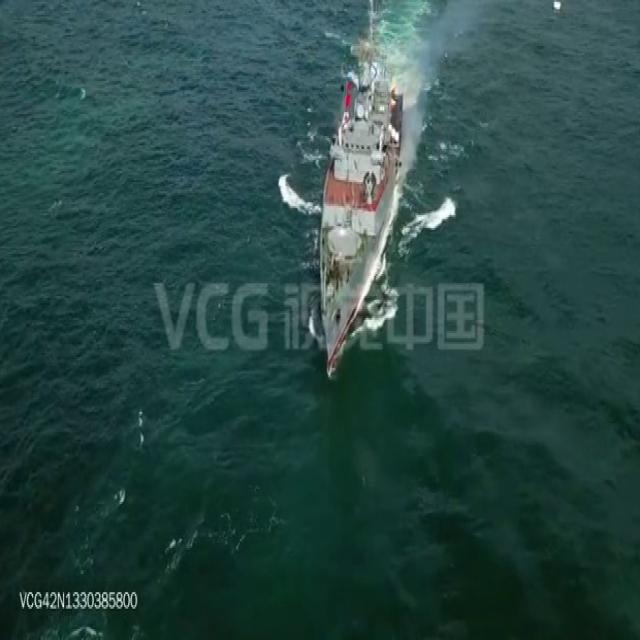navalvessels: (319, 2, 402, 386)
